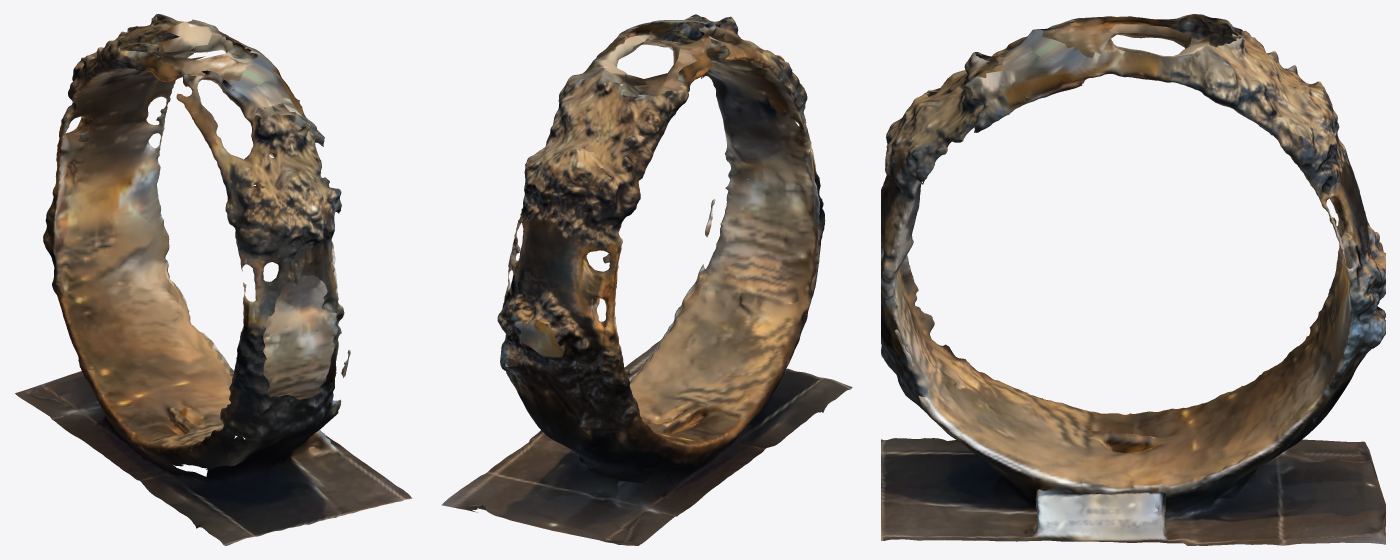
File: 横浜ビジネスパーク内オブジェ.glb
The picture shows the model from 3 angles, left to right: view 1: azimuth 30°, elevation 25°; view 2: azimuth 150°, elevation 25°; view 3: azimuth 270°, elevation 25°; orthographic projection. The views are drawn at different scales.
Visible parts, largest first — view 1: mesh; view 2: mesh; view 3: mesh.
Part boxes in pixels (bbox=[...]): mesh: bbox=[15, 14, 412, 545]; mesh: bbox=[441, 14, 852, 545]; mesh: bbox=[881, 14, 1385, 545].
Size of the model in its own units: 0.9402 by 1.94 by 1.92.
1 material, 1 textured.
